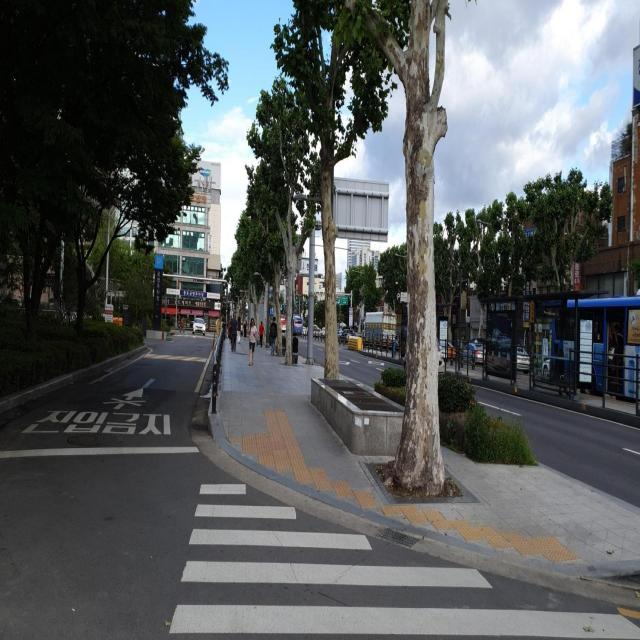횡단보도: (168, 481, 640, 640)
